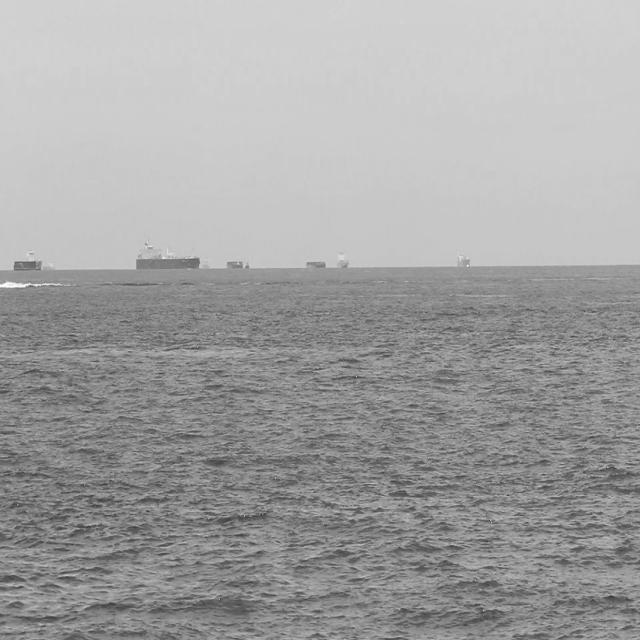ship: (135, 238, 200, 272), (12, 247, 43, 271), (455, 248, 470, 269), (335, 248, 349, 268), (306, 258, 326, 269), (43, 259, 59, 271), (226, 258, 244, 268), (201, 254, 212, 270), (243, 256, 250, 268)
